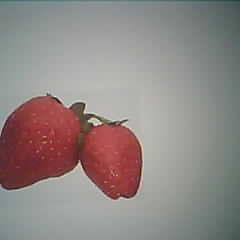straw-ripe: (1, 98, 82, 190), (82, 122, 143, 199)
